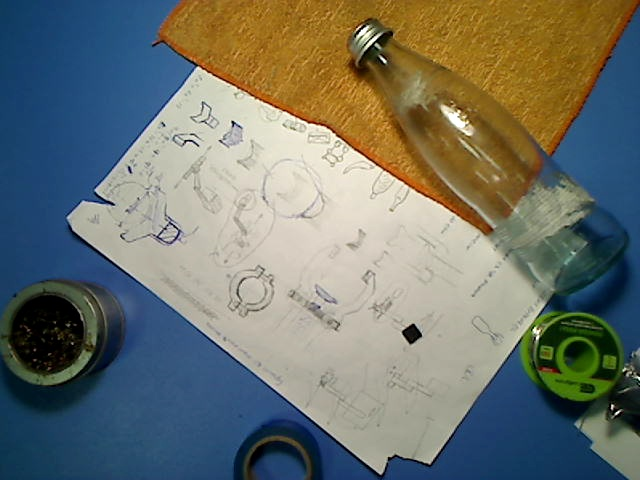bottle: (346, 17, 633, 298)
